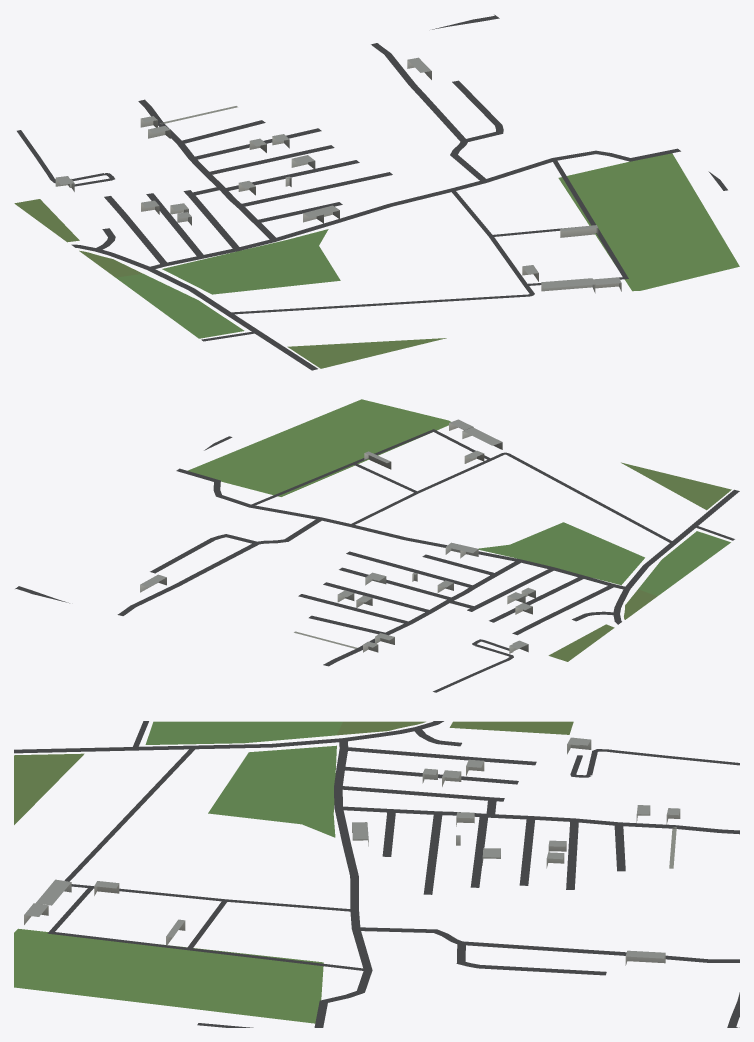
3 views of the same model, one above another, from view 1: azimuth 30°, elevation 25°; view 2: azimuth 150°, elevation 25°; view 3: azimuth 270°, elevation 25° (orthographic). The views are drawn at different scales.
Visible parts, largest first — view 1: ground, building; view 2: ground, building; view 3: ground, building.
Part boxes in pixels (bbox=[...]): ground: bbox=[14, 14, 739, 370]; building: bbox=[55, 57, 621, 293]; ground: bbox=[15, 399, 739, 692]; building: bbox=[140, 419, 535, 653]; ground: bbox=[14, 721, 739, 1027]; building: bbox=[24, 737, 680, 965].
Size of the model in its own units: 500 by 8 by 500.
